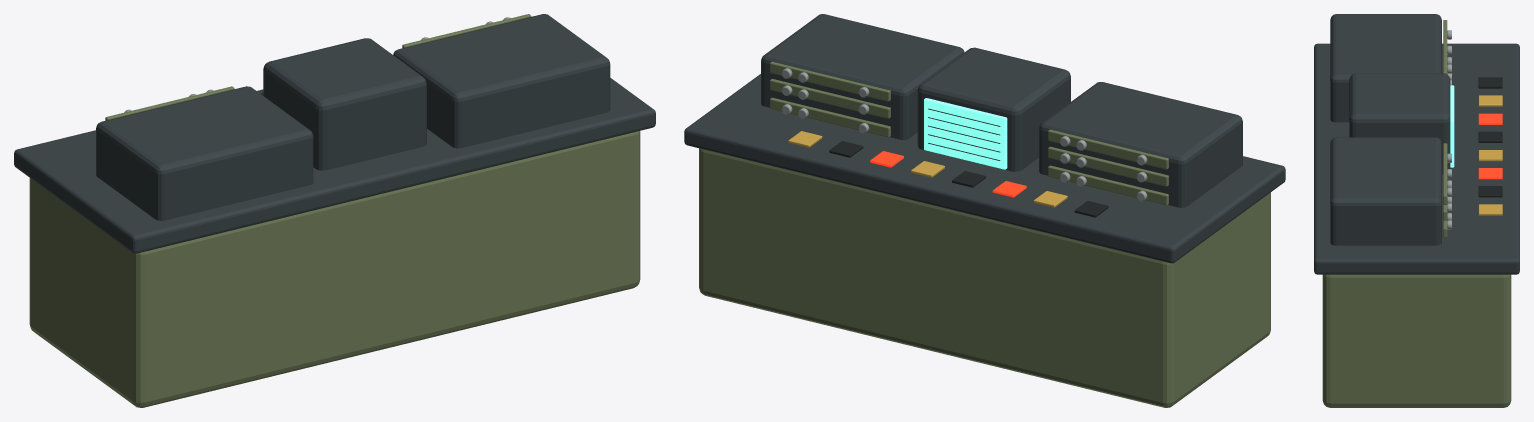
Rendered from comms_console.glb.
3 views of the same model, side by side, from view 1: azimuth 30°, elevation 25°; view 2: azimuth 150°, elevation 25°; view 3: azimuth 270°, elevation 25° (orthographic). The views are drawn at different scales.
Visible parts, largest first — view 1: comms_console; view 2: comms_console; view 3: comms_console.
Part boxes in pixels (bbox=[...]): comms_console: bbox=[14, 14, 655, 407]; comms_console: bbox=[684, 14, 1285, 407]; comms_console: bbox=[1314, 14, 1519, 407].
Size of the model in its own units: 3 by 1.36 by 1.2.
